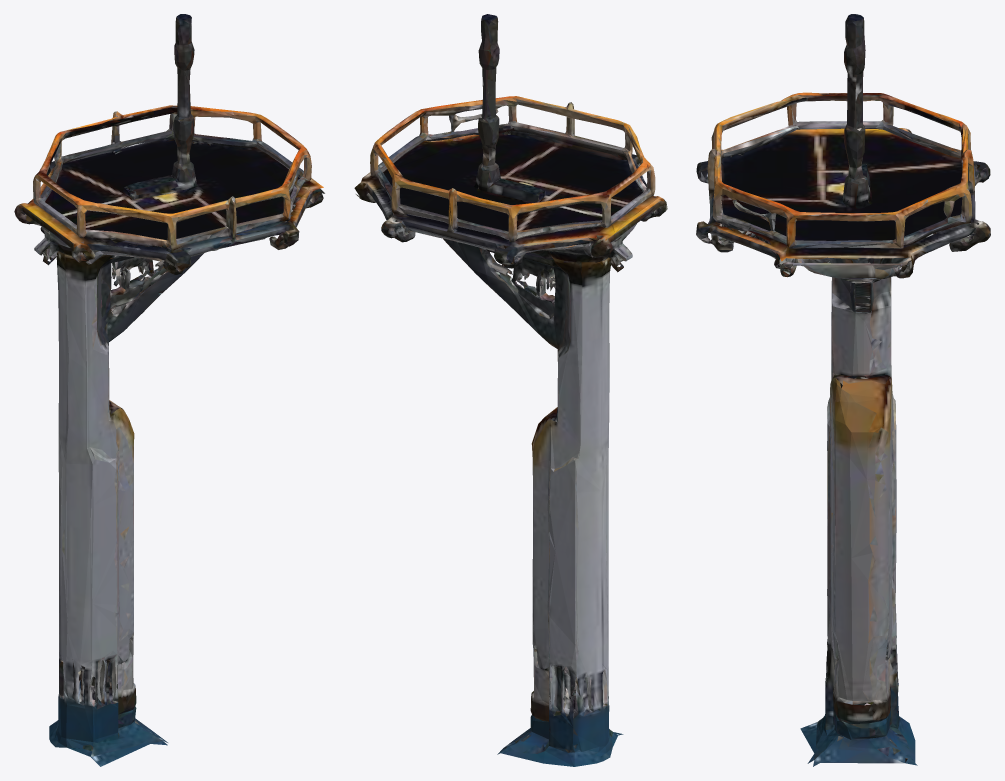
The model's file is neptuno_torre.obj.
3 renders of one model, left to right at view 1: azimuth 30°, elevation 25°; view 2: azimuth 150°, elevation 25°; view 3: azimuth 270°, elevation 25°, orthographic. The views are drawn at different scales.
Bounding box in the file's own units: 8.79 × 23.37 × 8.12.
1 material, 1 textured.
